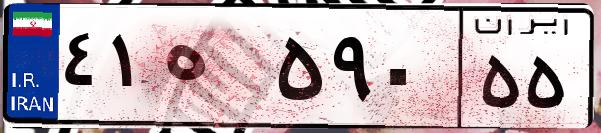0: (385, 28, 445, 110)
1: (110, 28, 158, 98)
4: (57, 26, 110, 100)
5: (270, 28, 330, 110), (475, 38, 525, 113), (525, 38, 570, 115)
9: (330, 28, 385, 110)
ه: (158, 20, 270, 120)
